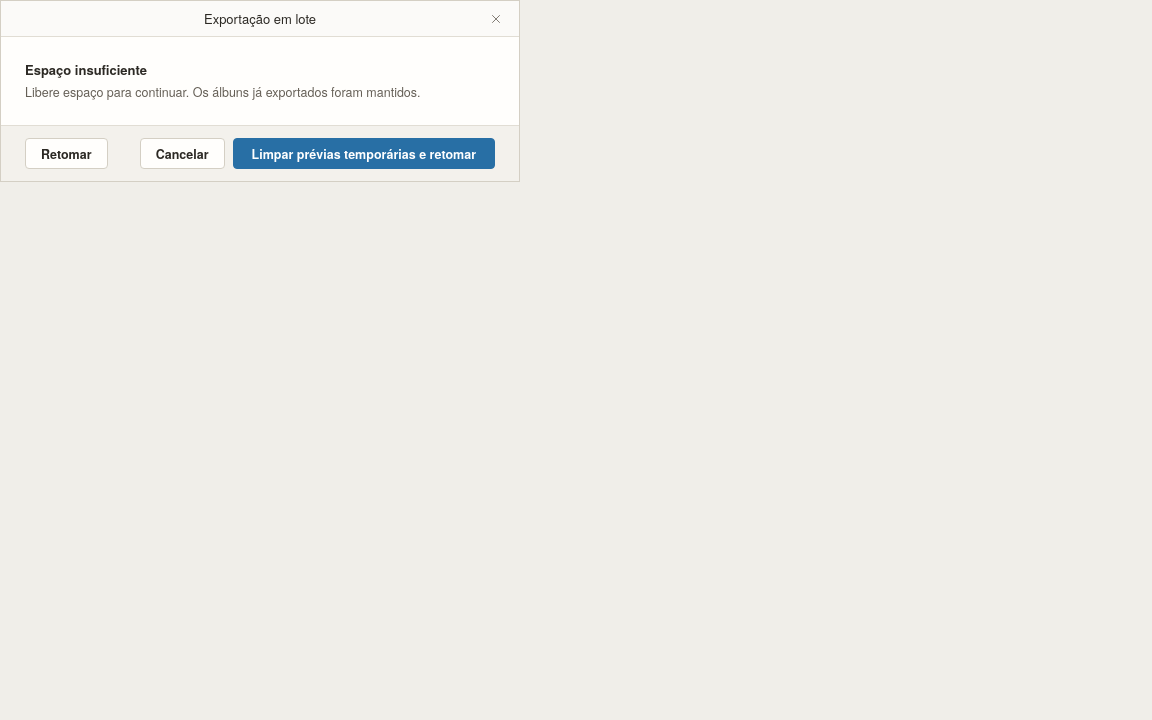
Test case: no bytes reclaimed keeps the same modal with manual resume
Step 1. Click the button "Limpar prévias temporárias e retomar" → point(364, 154), box [232,138,495,169]
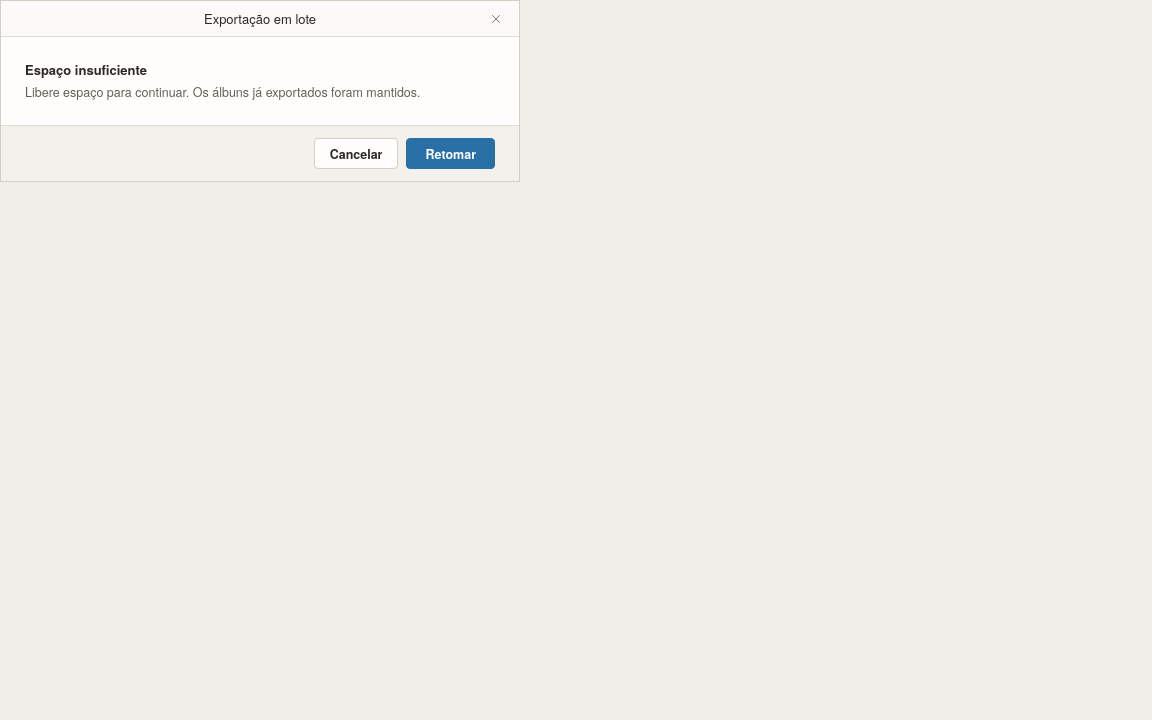
Expected: the button "Retomar" is enabled, [406,138,495,169]
Result: the button "Limpar prévias temporárias e retomar" is gone
